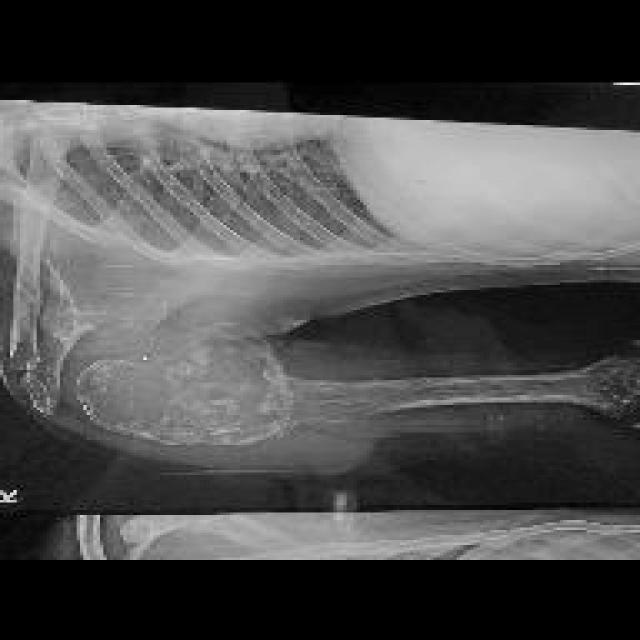bone-cancer: (77, 318, 373, 445)
